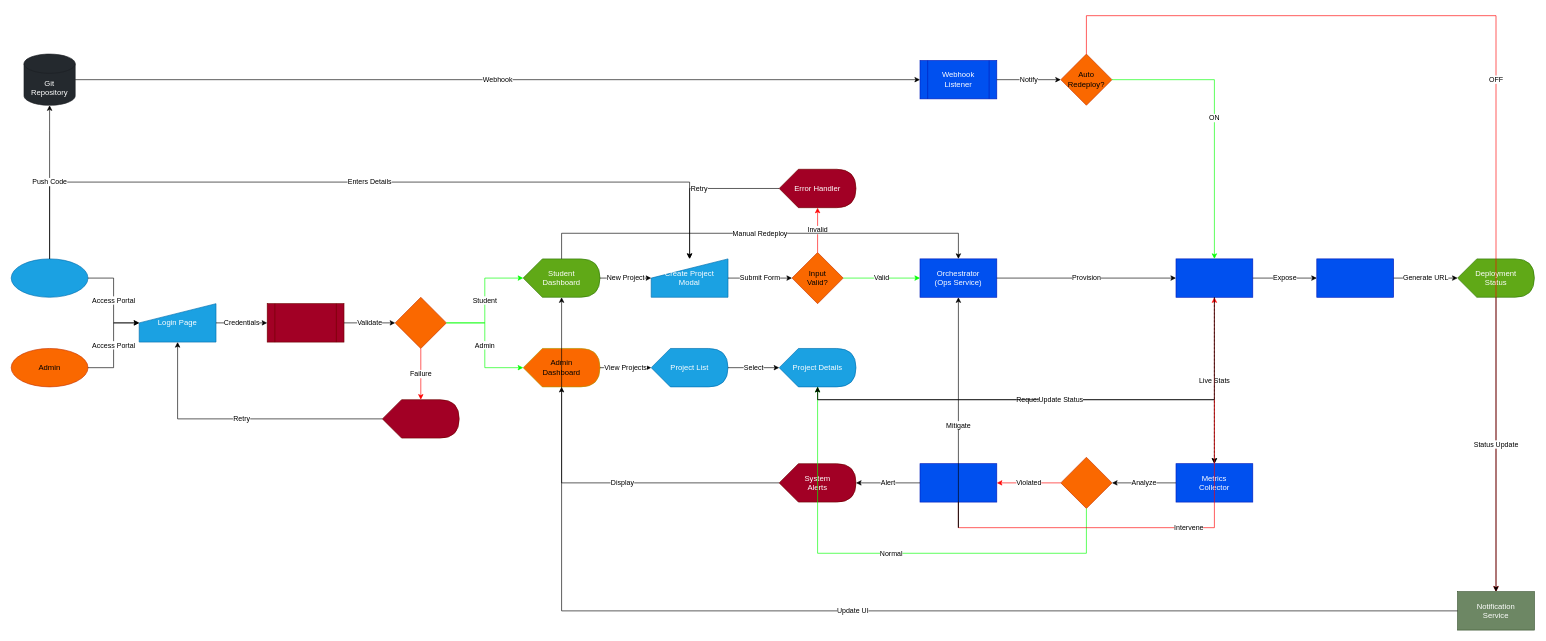
Image size: 1546x641. Some labels were removed from this diagram. Here are the shapes that lost their labels. From the top down, the centre of each, then its label:
At (x=49, y=277): "Student (Project Owner)".
At (x=1214, y=277): "Runtime Manager".
At (x=1355, y=277): "DNS Manager".
At (x=305, y=322): "DASSAL Auth".
At (x=420, y=322): "Account Valid?".
At (x=420, y=418): "Error Message".
At (x=958, y=482): "Action Handler".
At (x=1086, y=482): "Limits OK?".
